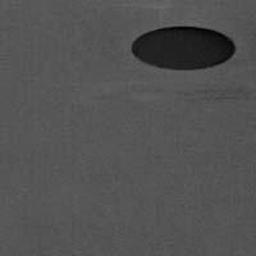Punching: (132, 24, 237, 70)
